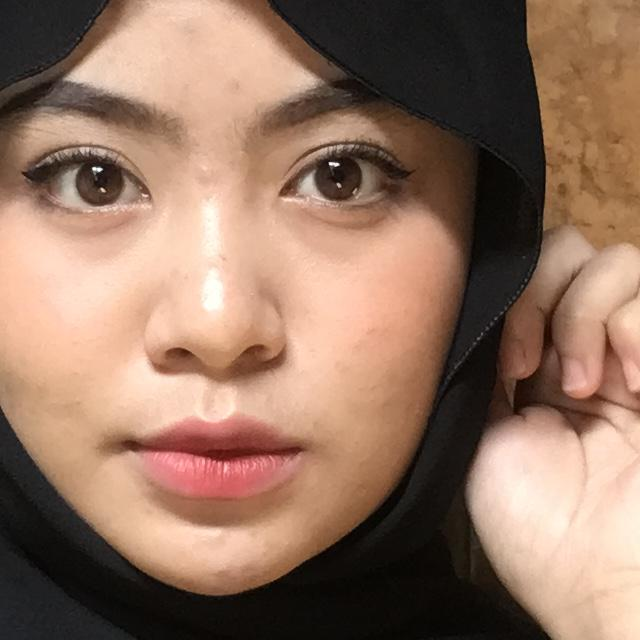ibu: (360, 196, 640, 640)
